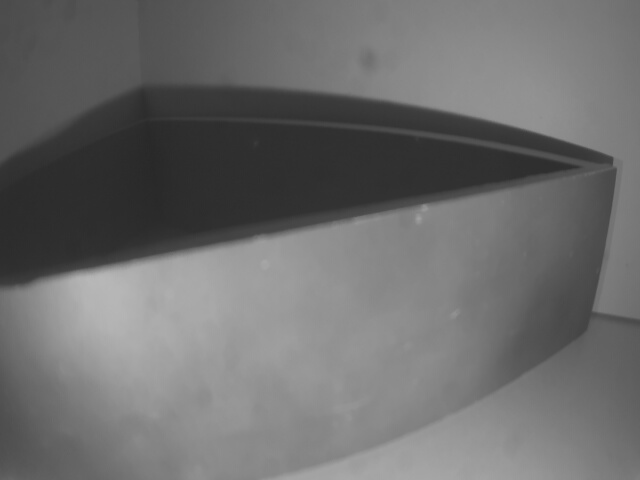Green: (0, 169, 618, 480)
